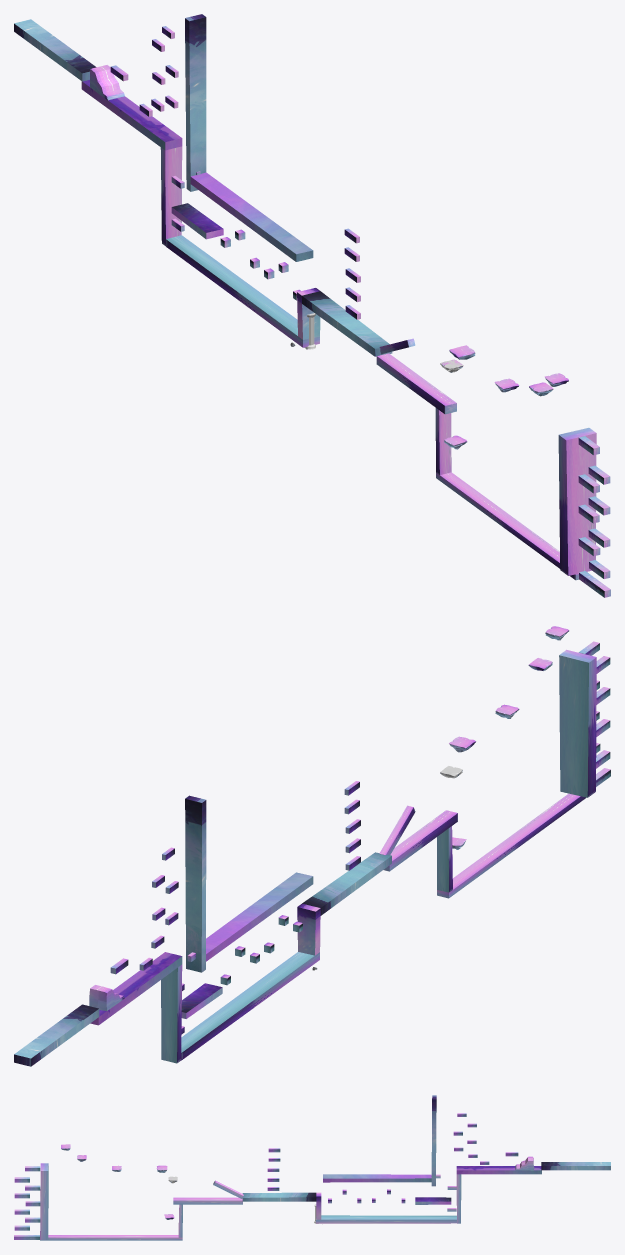
The model's file is MAPA (1).fbx.
3 renders of one model, top to bottom at view 1: azimuth 30°, elevation 25°; view 2: azimuth 150°, elevation 25°; view 3: azimuth 270°, elevation 25°, orthographic. The views are drawn at different scales.
Parts seen in each view (by area): view 1: parade.004, parade.002, parade.003, teto, Cube.009, chao.002, Chao.02, chao.01, parade, Cube.002, parade.001, Cube.012 (+1 smaller); view 2: parade.004, parade.002, parade.003, teto, Cube.009, parade, chao.01, chao.002, Chao.02, Cube.002, parade.005, parade.001 (+3 smaller); view 3: parade.003, teto, Cube.009, chao.002, Chao.02, parade.004, chao.01, Cube.002, parade.002, Cube.012, parade.
Part boxes in pixels (left/top/right/bottom): parade.004: left=558, top=427, right=596, bottom=575; parade.002: left=185, top=14, right=206, bottom=191; parade.003: left=166, top=235, right=319, bottom=347; teto: left=190, top=172, right=313, bottom=261; Cube.009: left=436, top=472, right=587, bottom=580; chao.002: left=302, top=291, right=392, bottom=356; Chao.02: left=81, top=80, right=182, bottom=150; chao.01: left=14, top=19, right=96, bottom=81; parade: left=160, top=146, right=182, bottom=246; Cube.002: left=376, top=353, right=456, bottom=414; parade.001: left=435, top=408, right=451, bottom=475; Cube.012: left=171, top=203, right=223, bottom=239; parade.004: left=559, top=649, right=596, bottom=797; parade.002: left=185, top=795, right=206, bottom=972; parade.003: left=181, top=952, right=319, bottom=1060; teto: left=206, top=872, right=313, bottom=961; Cube.009: left=437, top=793, right=585, bottom=898; parade: left=161, top=964, right=182, bottom=1063; chao.01: left=14, top=1004, right=99, bottom=1066; chao.002: left=302, top=852, right=391, bottom=915; Chao.02: left=90, top=952, right=182, bottom=1025; Cube.002: left=383, top=810, right=457, bottom=871; parade.005: left=297, top=903, right=320, bottom=955; parade.001: left=437, top=826, right=452, bottom=892; parade.003: left=316, top=1215, right=456, bottom=1223; teto: left=323, top=1174, right=431, bottom=1182; Cube.009: left=40, top=1235, right=182, bottom=1240; chao.002: left=242, top=1192, right=316, bottom=1201; Chao.02: left=456, top=1166, right=541, bottom=1174; parade.004: left=40, top=1163, right=48, bottom=1239; chao.01: left=541, top=1162, right=610, bottom=1170; Cube.002: left=173, top=1197, right=242, bottom=1204; parade.002: left=431, top=1095, right=436, bottom=1186; Cube.012: left=415, top=1197, right=451, bottom=1204; parade: left=456, top=1174, right=461, bottom=1223.
Size of the model in its own units: 509 by 4475 by 17062.
